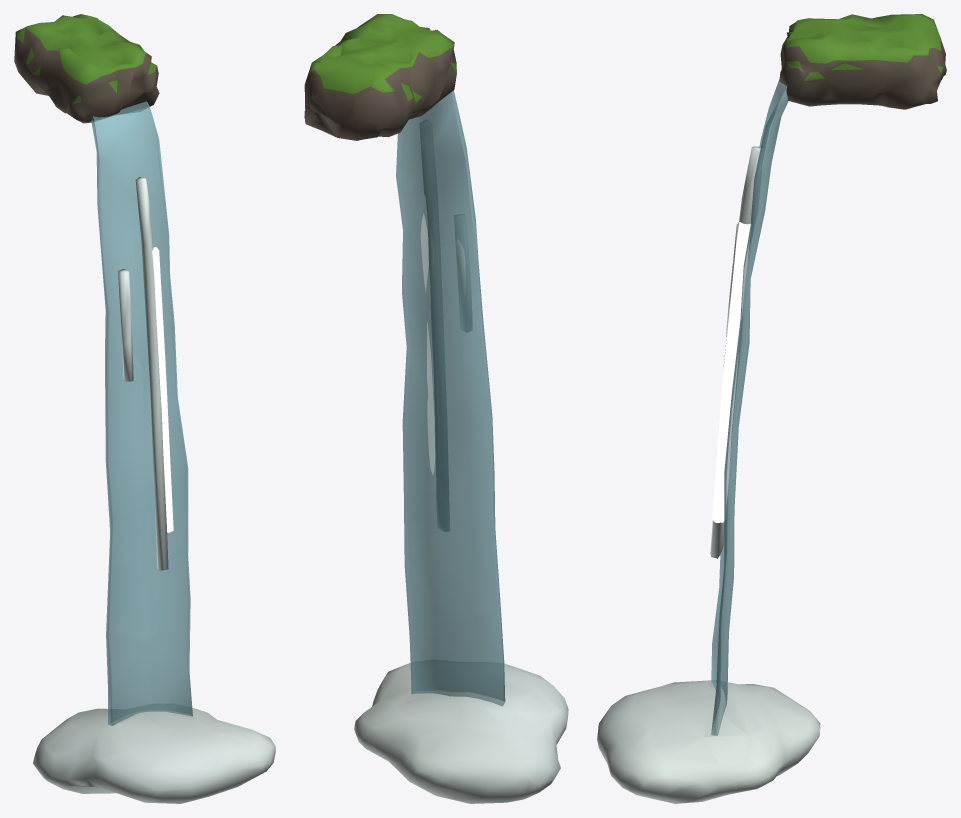
The model's file is glade_dew_trickle_lod1.glb.
3 renders of one model, left to right at view 1: azimuth 30°, elevation 25°; view 2: azimuth 150°, elevation 25°; view 3: azimuth 270°, elevation 25°, orthographic. The views are drawn at different scales.
Parts seen in each view (by area): view 1: glade_dew_trickle.001; view 2: glade_dew_trickle.001; view 3: glade_dew_trickle.001.
Boxes of the visible parts, left/top/right/bottom form: glade_dew_trickle.001: left=14, top=14, right=275, bottom=803; glade_dew_trickle.001: left=304, top=14, right=568, bottom=803; glade_dew_trickle.001: left=597, top=14, right=946, bottom=803.
Size of the model in its own units: 2.53 by 9.02 by 3.78.
